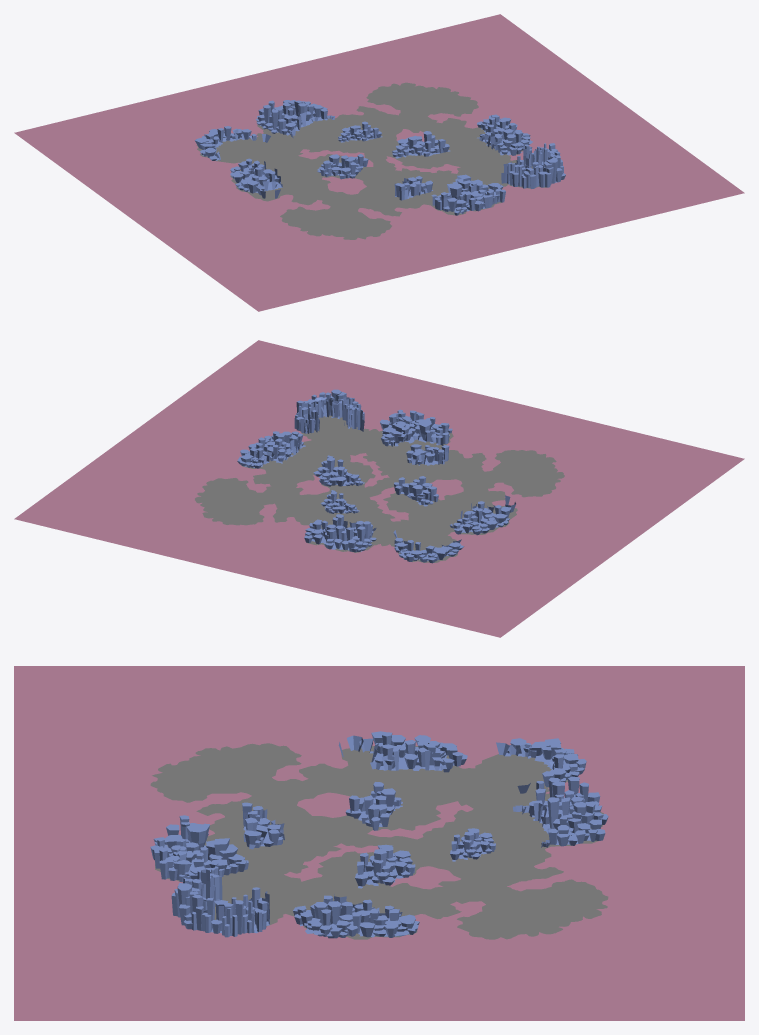
The picture shows the model from 3 angles, top to bottom: view 1: azimuth 30°, elevation 25°; view 2: azimuth 150°, elevation 25°; view 3: azimuth 270°, elevation 25°; orthographic projection. The views are drawn at different scales.
Parts seen in each view (by area): view 1: Plane004, Line027, Object009; view 2: Plane004, Line027, Object009; view 3: Plane004, Line027, Object009.
Boxes of the visible parts, left/top/right/bottom form: Plane004: left=14, top=14, right=744, bottom=311; Line027: left=196, top=82, right=546, bottom=239; Object009: left=195, top=100, right=565, bottom=215; Plane004: left=14, top=340, right=744, bottom=637; Line027: left=195, top=415, right=564, bottom=562; Object009: left=237, top=389, right=515, bottom=563; Plane004: left=14, top=666, right=744, bottom=1020; Line027: left=150, top=743, right=608, bottom=939; Object009: left=150, top=731, right=608, bottom=938.
Size of the model in its own units: 22792 by 1158 by 19838.
